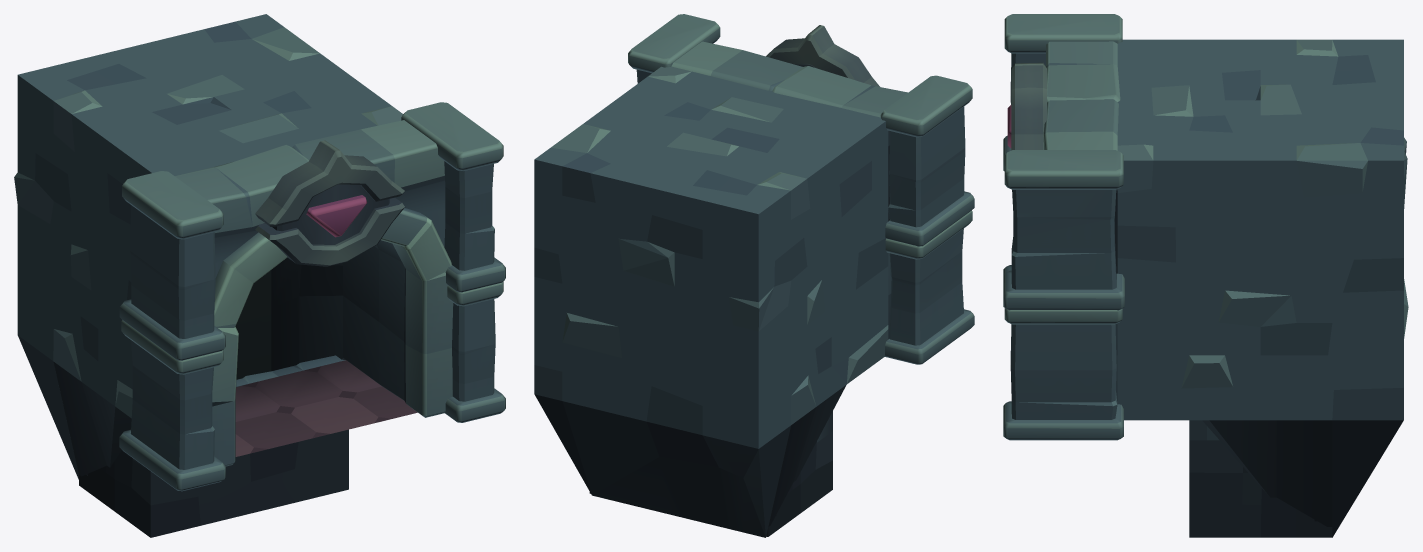
Rendered from doorway_level_to_level_down.fbx.
3 views of the same model, side by side, from view 1: azimuth 30°, elevation 25°; view 2: azimuth 150°, elevation 25°; view 3: azimuth 270°, elevation 25° (orthographic). The views are drawn at different scales.
Visible parts, largest first — view 1: doorway_level_to_level_down; view 2: doorway_level_to_level_down; view 3: doorway_level_to_level_down.
Boxes of the visible parts, x1,y1,x2,y2 form: doorway_level_to_level_down: (14,14,505,537); doorway_level_to_level_down: (534,14,974,537); doorway_level_to_level_down: (1003,14,1408,537).
Bounding box in the file's own units: 530 × 658 × 566.
